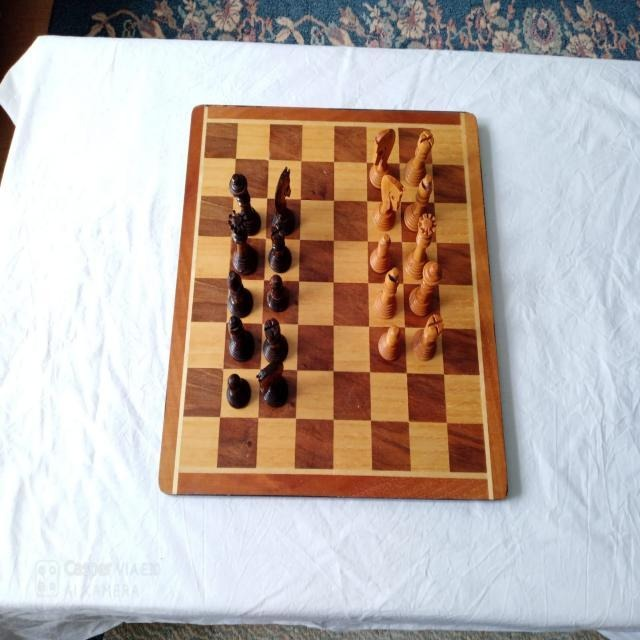black-bishop: (228, 315, 256, 361), (227, 268, 252, 317)
black-king: (229, 172, 261, 236)
black-knight: (271, 165, 297, 235), (256, 359, 290, 407)
black-pawn: (226, 373, 251, 409), (266, 274, 290, 311)
black-queen: (227, 209, 259, 275)
black-rook: (267, 222, 292, 273), (263, 317, 289, 363)
white-bishop: (403, 173, 433, 231), (373, 267, 400, 319)
white-king: (409, 260, 442, 315)
white-knight: (372, 173, 406, 230), (368, 128, 395, 189)
white-pawn: (369, 234, 392, 274), (378, 325, 402, 360)
white-queen: (403, 213, 436, 279)
white-rook: (403, 130, 434, 186), (412, 313, 444, 360)
